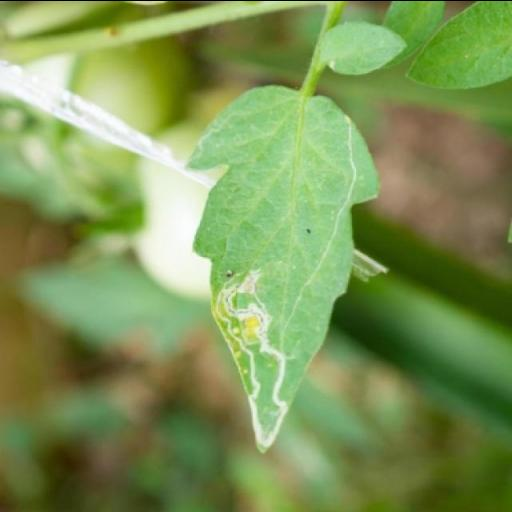Leaf Miner: (180, 82, 380, 448)
